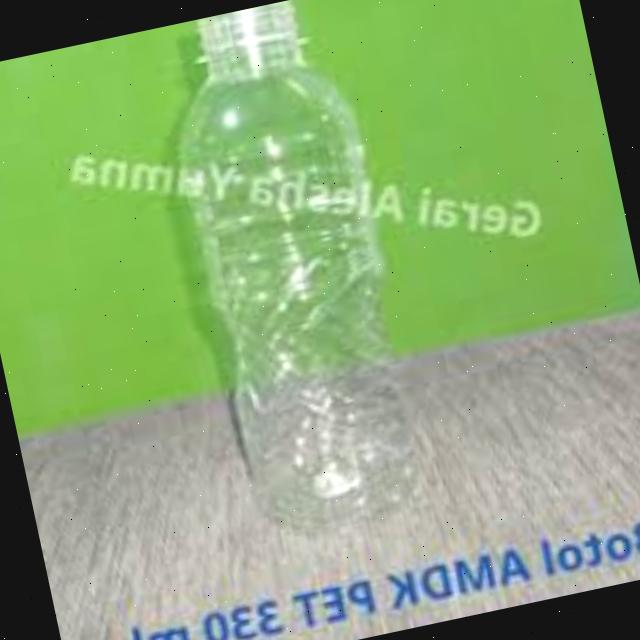trash: (142, 0, 438, 545)
